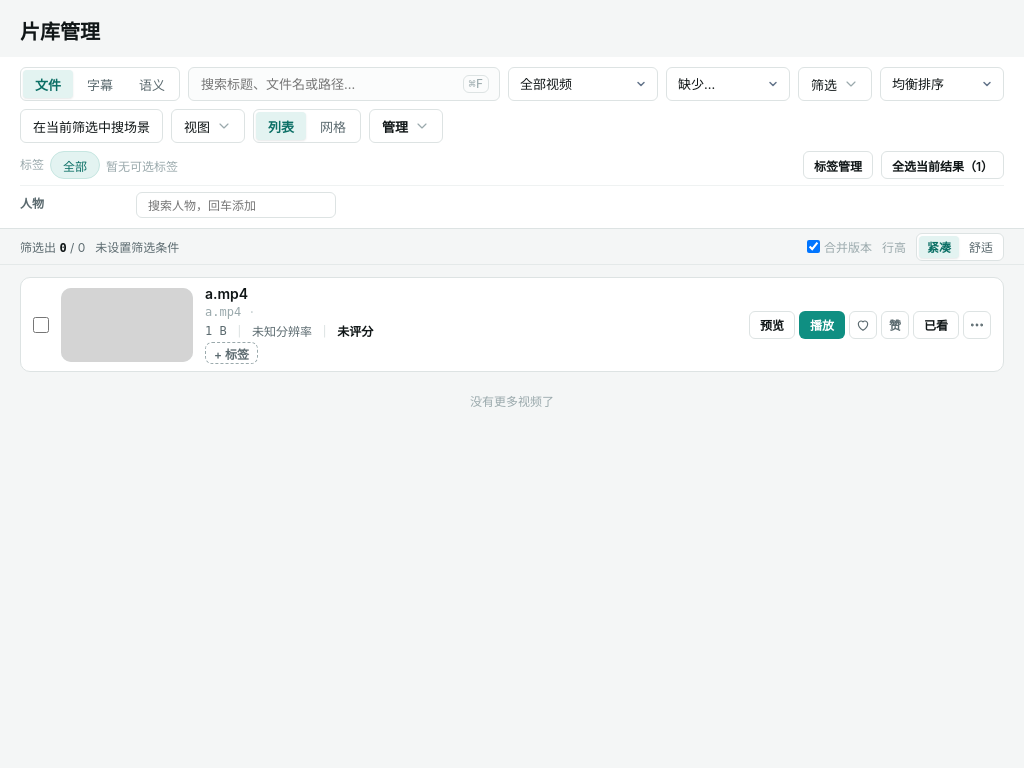
it: 行内 ⋯ 菜单 › 点菜单外部才关闭
Click the button named "更多操作".
click(977, 324)  # box [963,310,991,338]
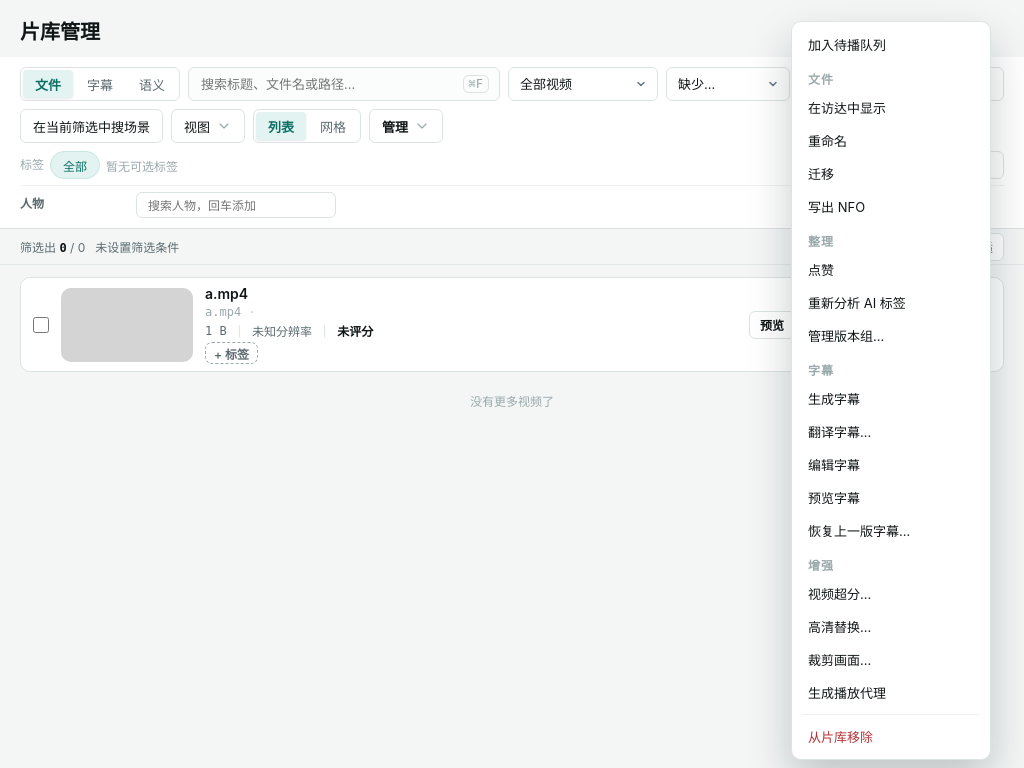
Press the mouse on the element that starts with "片库管理" at (512, 384), box [0,0,1023,767]
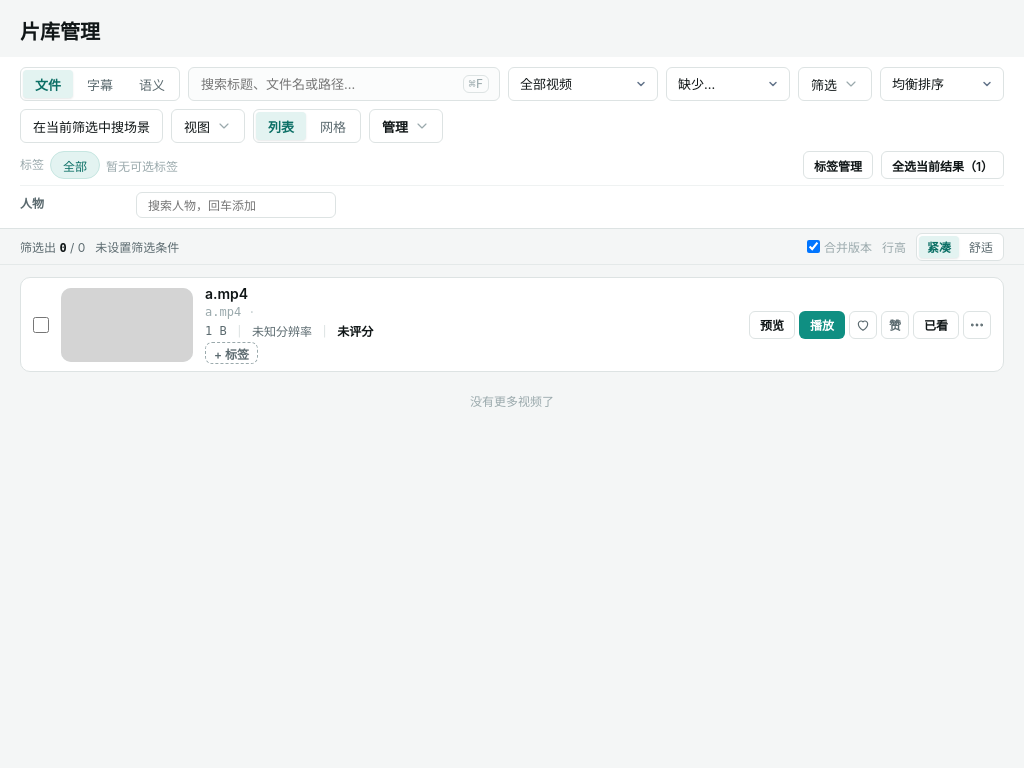
Expected: no menu items with class "base-menu__item" are shown
